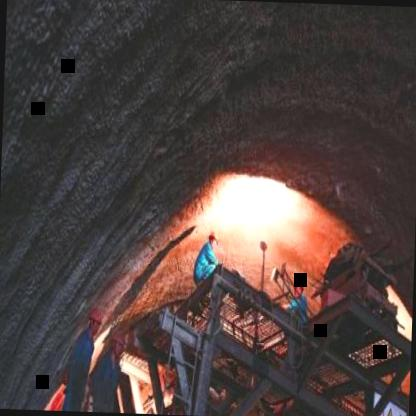helmet: (88, 304, 106, 336), (110, 328, 126, 358), (294, 274, 306, 302), (208, 230, 220, 254)
